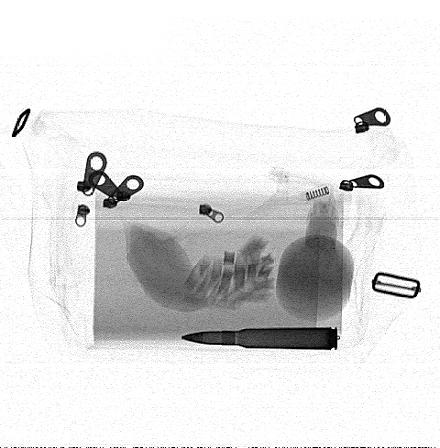Bullet: (177, 326, 338, 351)
